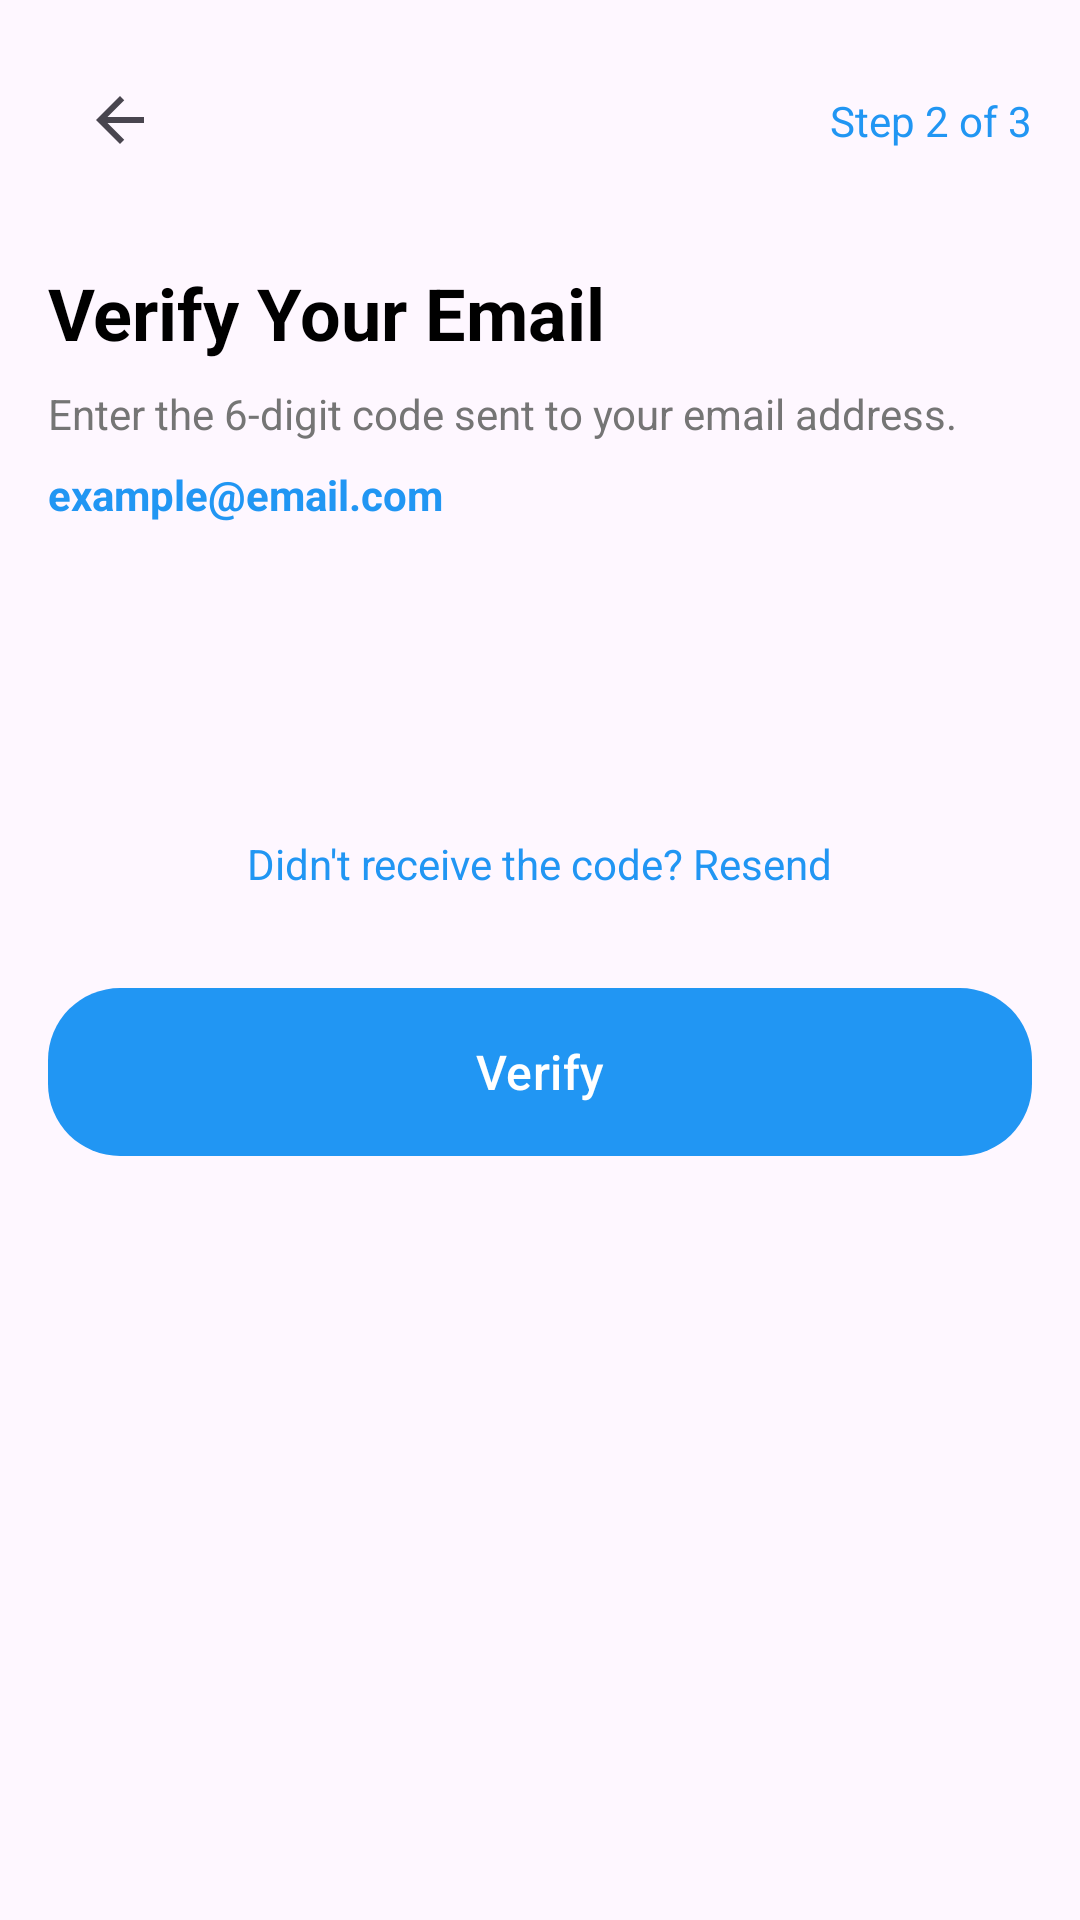

Screen size 1080×1920. Icon name, then its center in pixels as (x=x, y=y):
Back: (x=120, y=120)
